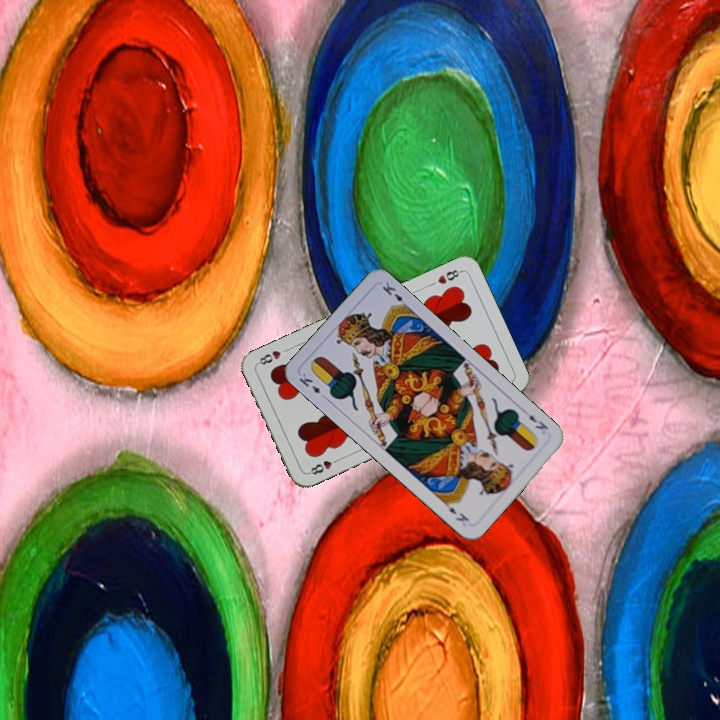EK: (295, 369, 330, 402), (525, 411, 551, 432)
H8: (304, 454, 343, 477), (433, 265, 464, 287)
